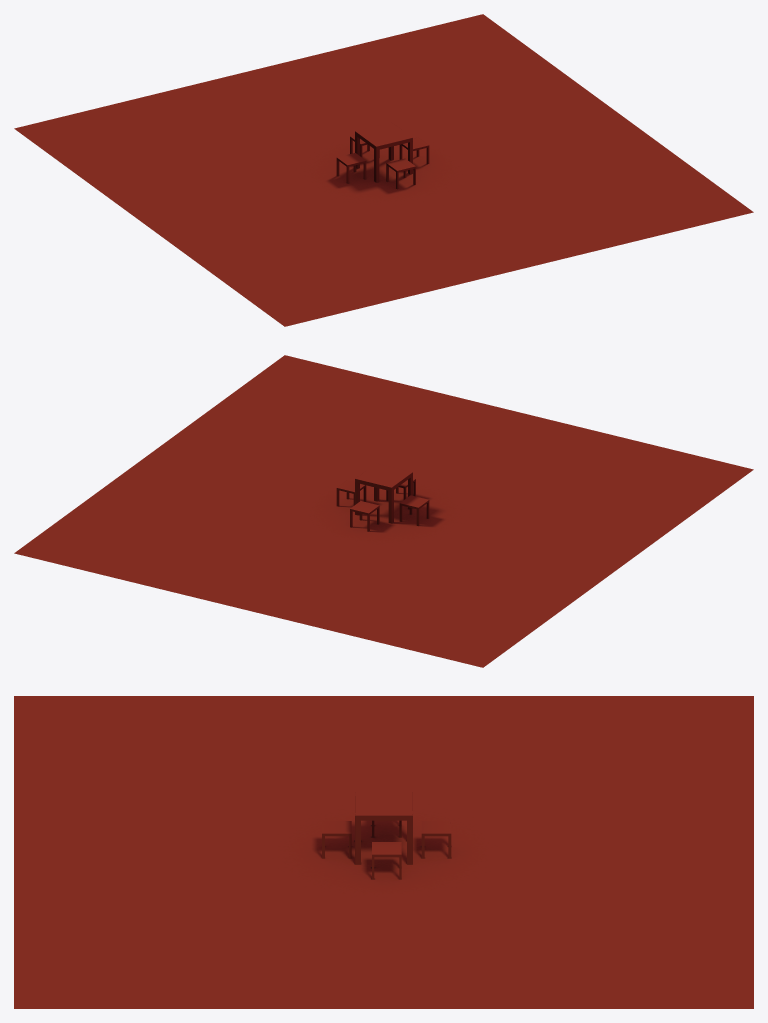
File: DESK.fbx
3 renders of one model, top to bottom at view 1: azimuth 30°, elevation 25°; view 2: azimuth 150°, elevation 25°; view 3: azimuth 270°, elevation 25°, orthographic. The views are drawn at different scales.
Visible parts, largest first — view 1: Cube; view 2: Cube; view 3: Cube.
Boxes of the visible parts, x1=… form: Cube: x1=14, y1=14, x2=753, y2=326; Cube: x1=14, y1=355, x2=753, y2=667; Cube: x1=14, y1=696, x2=753, y2=1008.
Bounding box in the file's own units: 2 × 0.1473 × 2.
Materials: 1 (1 with a texture image).
